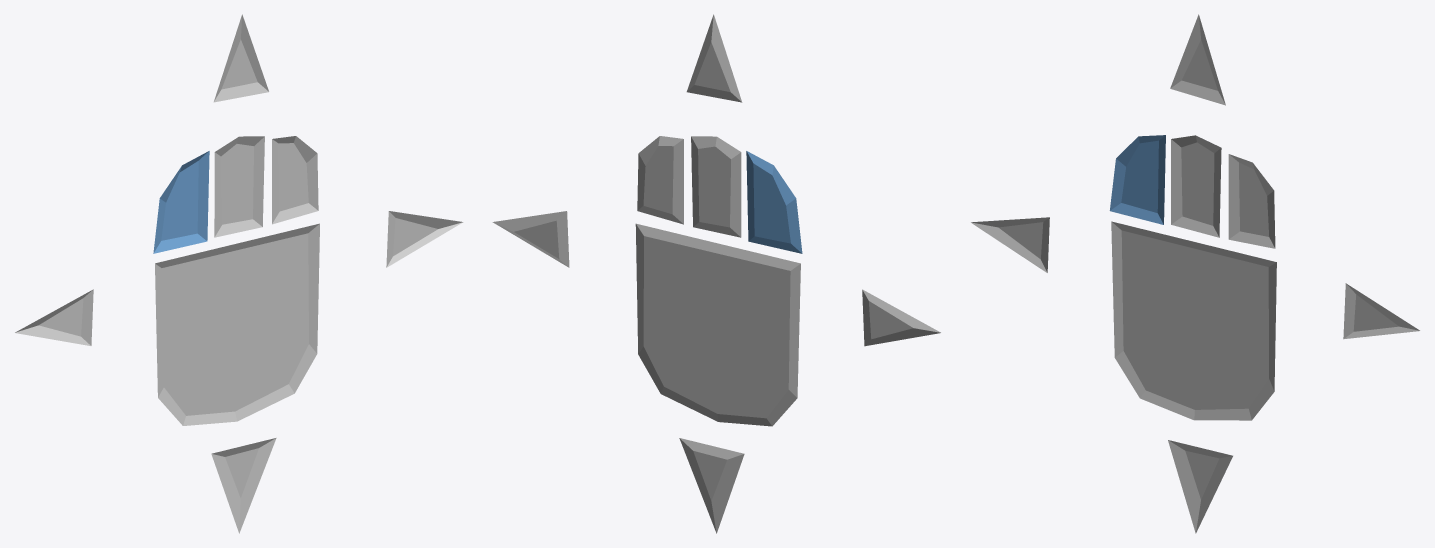
Rendered from icon_leftMouseDrag.glb.
3 renders of one model, left to right at view 1: azimuth 30°, elevation 25°; view 2: azimuth 150°, elevation 25°; view 3: azimuth 330°, elevation 25°, orthographic.
Visible parts, largest first — view 1: Cube.001; view 2: Cube.001; view 3: Cube.001.
Part boxes in pixels (<box>): Cube.001: <box>15,14,463,533</box>; Cube.001: <box>492,14,940,533</box>; Cube.001: <box>971,14,1419,533</box>.
Size of the model in its own units: 1.71 by 1.89 by 0.0126.
